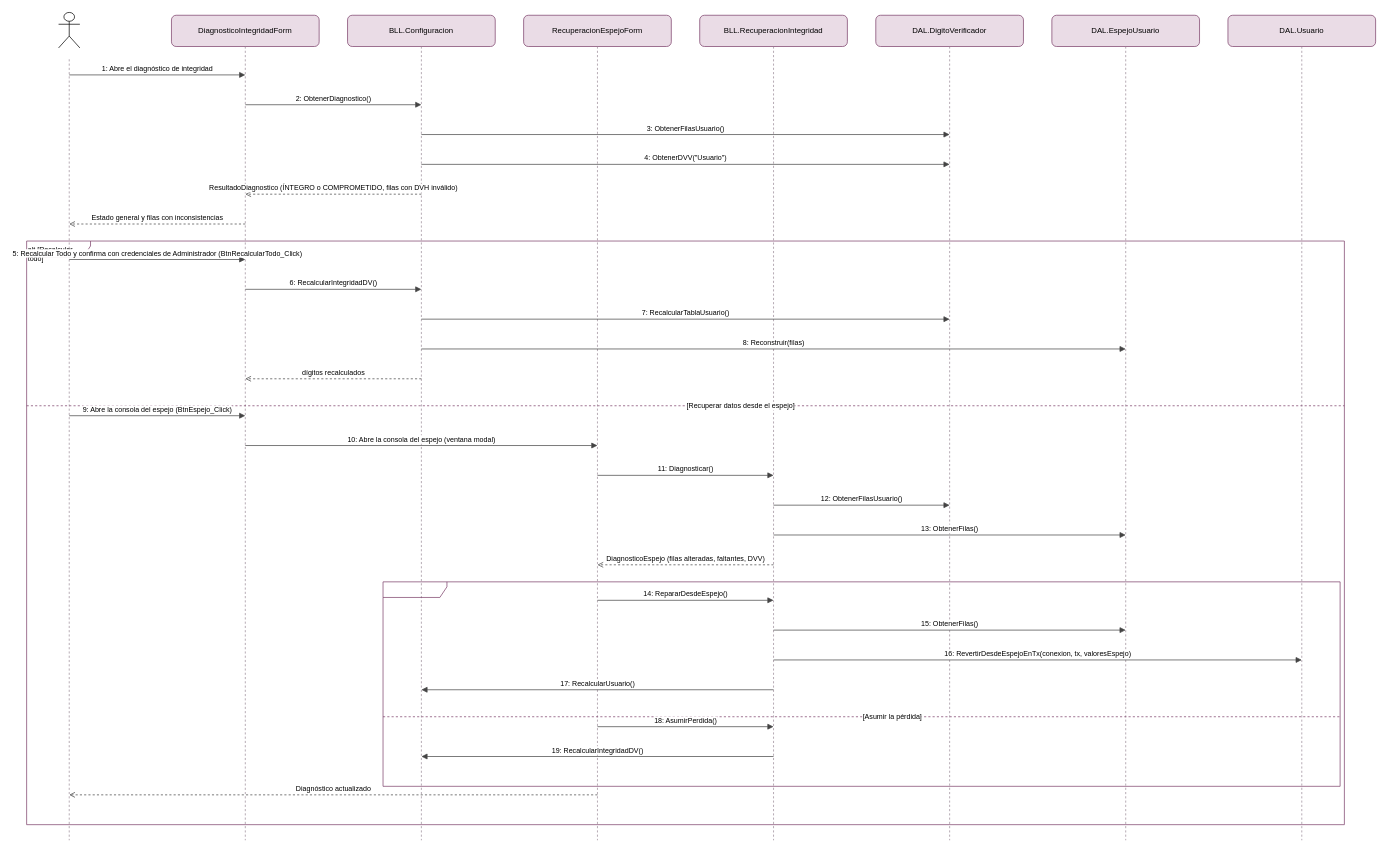
The diagram is 1388 pixels wide and 853 high, and some of its shapes have lost their labels. The shapes that lost their labels are listed below. From the top down, each one's centre as x and y in pixels, then its label:
At (69,30): "Administrador".
At (861,683): "alt [Reparar desde el espejo]".
